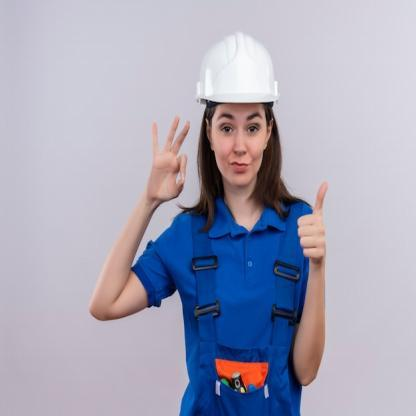ok: (146, 112, 192, 207)
thumb_up: (289, 178, 335, 266)
